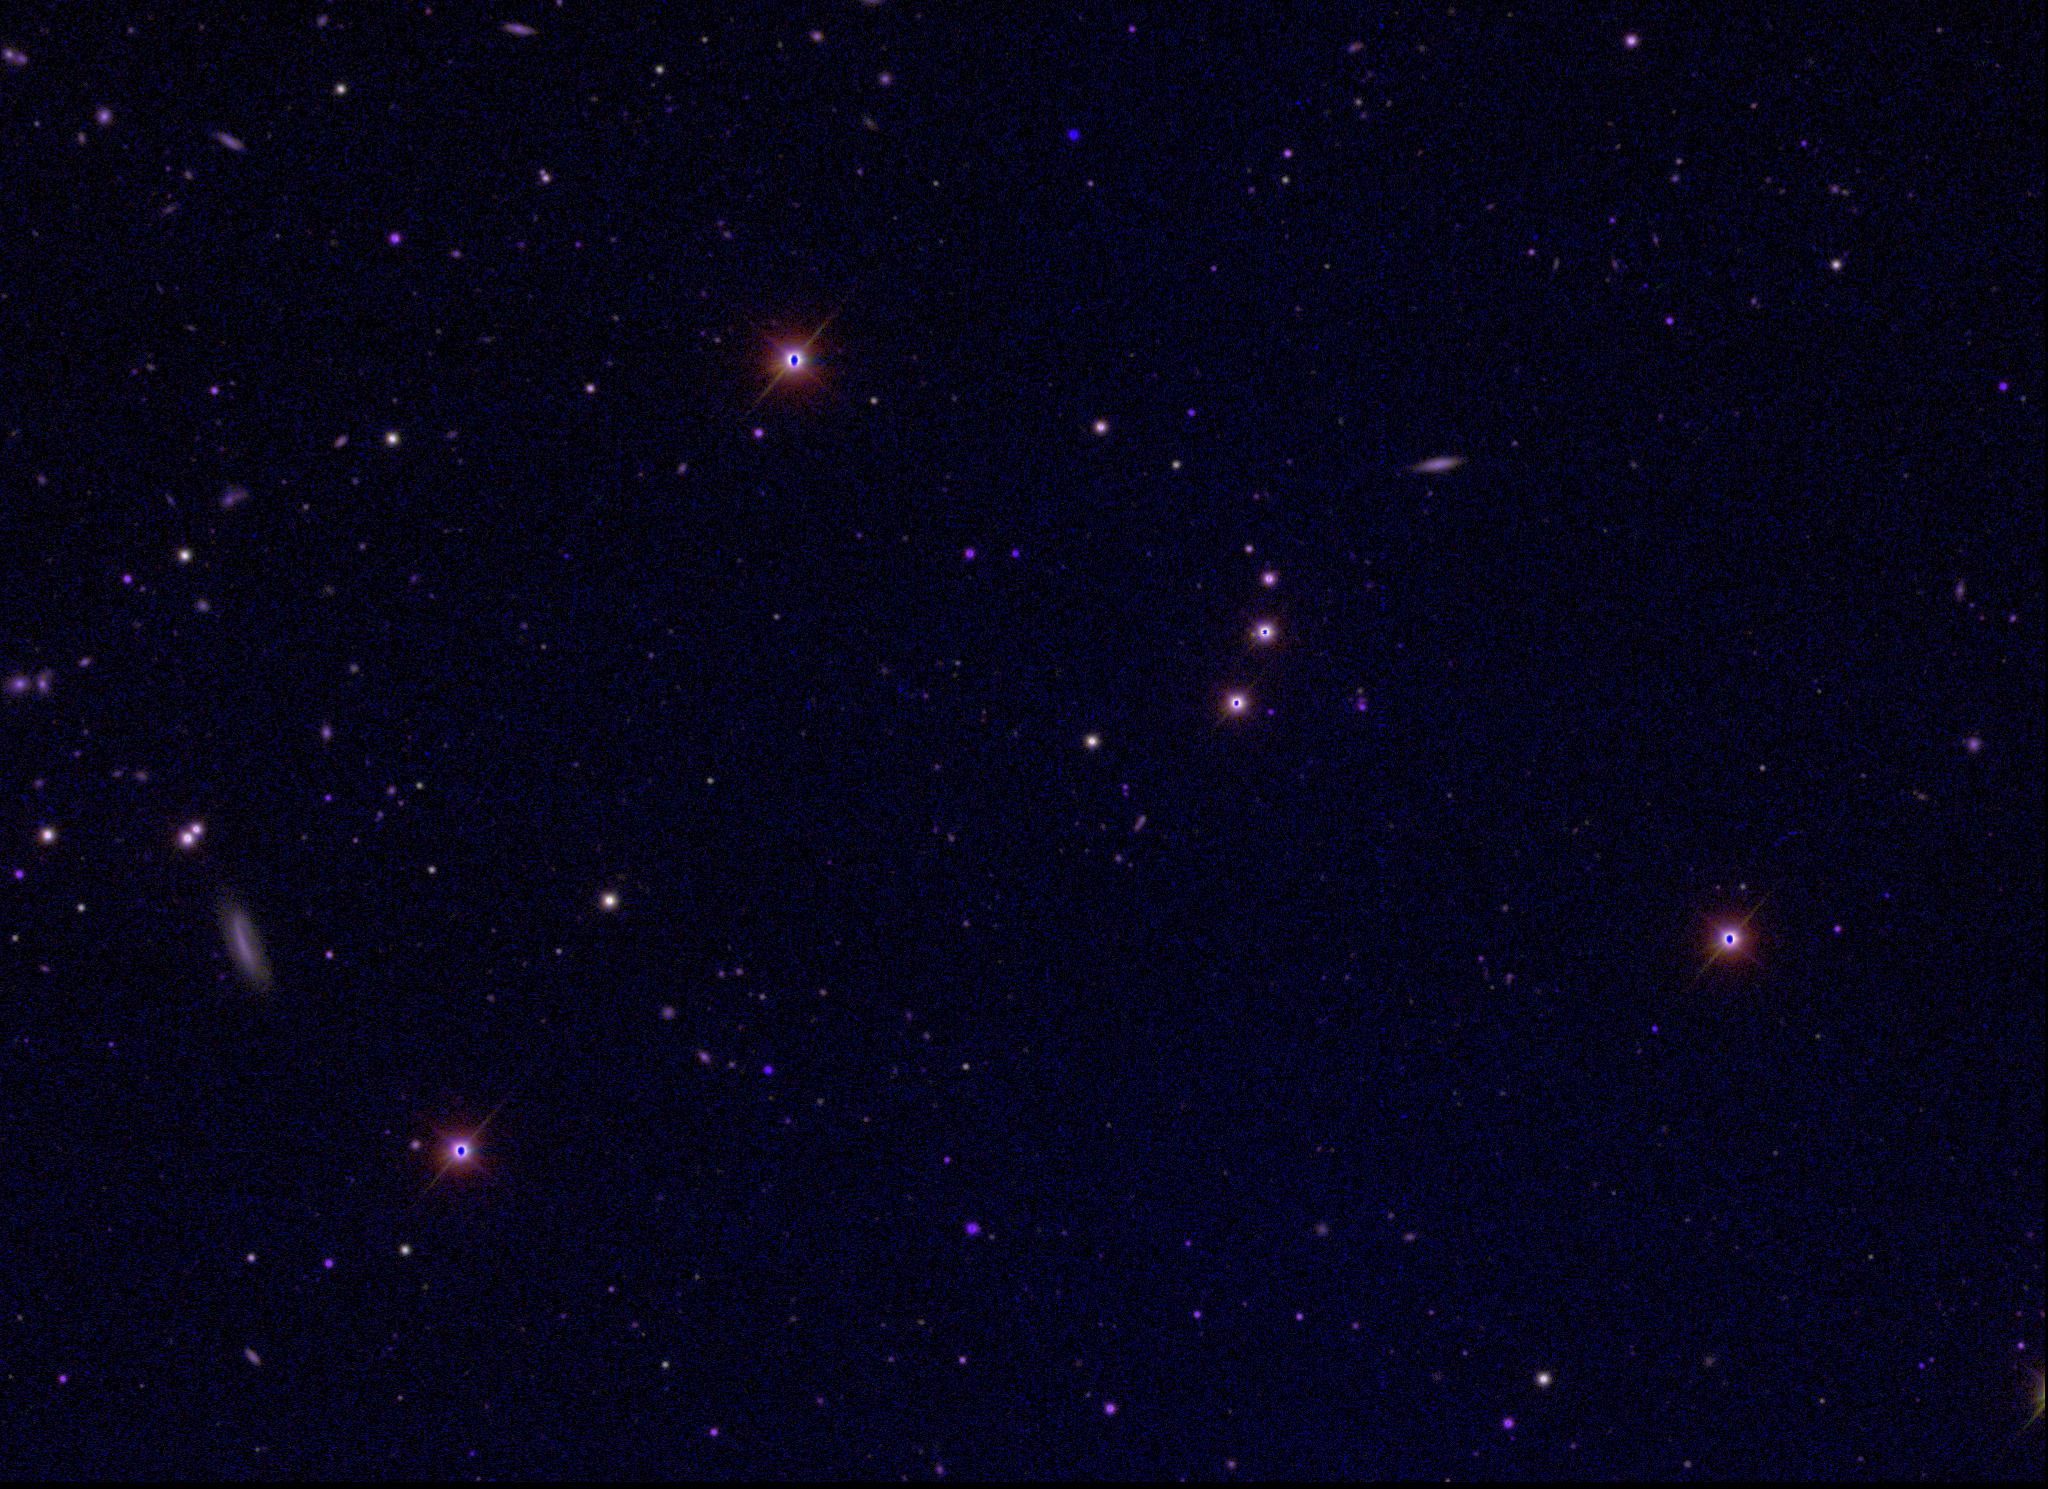L: (1065, 130, 1080, 145)
